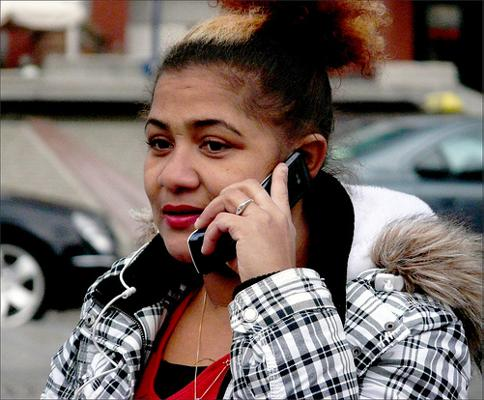person: (39, 11, 471, 400)
